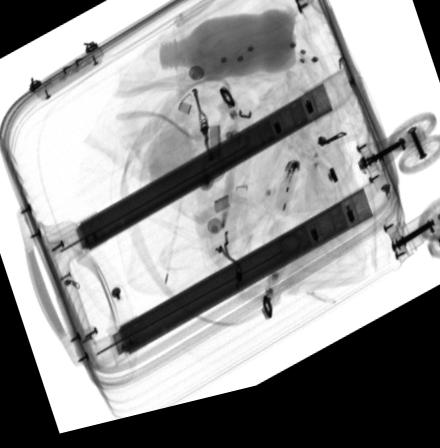Lighter: (273, 173, 299, 225)
